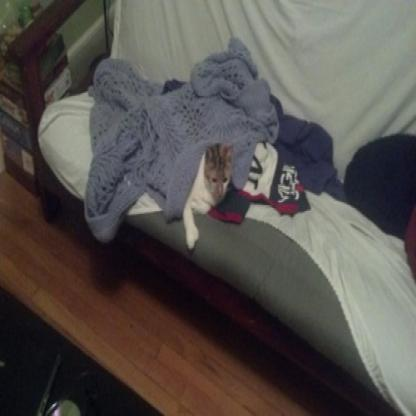Target: (174, 136, 238, 250)
